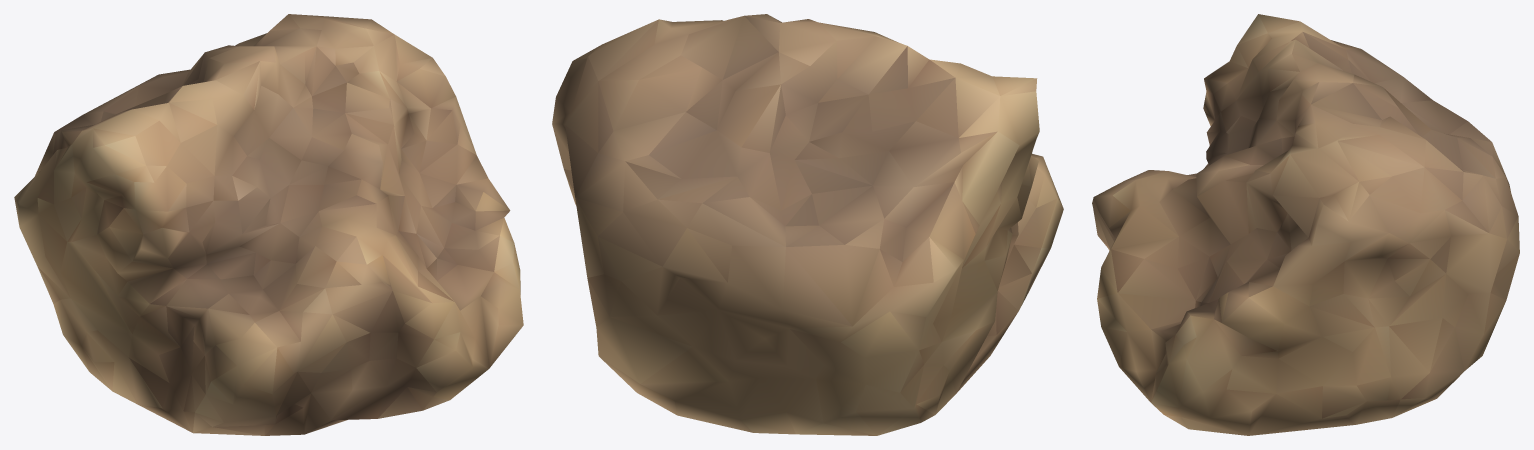
File: granite_2.glb
3 views of the same model, side by side, from view 1: azimuth 30°, elevation 25°; view 2: azimuth 150°, elevation 25°; view 3: azimuth 270°, elevation 25° (orthographic). The views are drawn at different scales.
Parts seen in each view (by area): view 1: tripo_part_0; view 2: tripo_part_0; view 3: tripo_part_0.
Boxes of the visible parts, bbox=[...] form: tripo_part_0: bbox=[14, 14, 523, 435]; tripo_part_0: bbox=[552, 14, 1063, 435]; tripo_part_0: bbox=[1092, 14, 1519, 435].
Bounding box in the file's own units: 0.9747 × 0.7491 × 0.9844.
